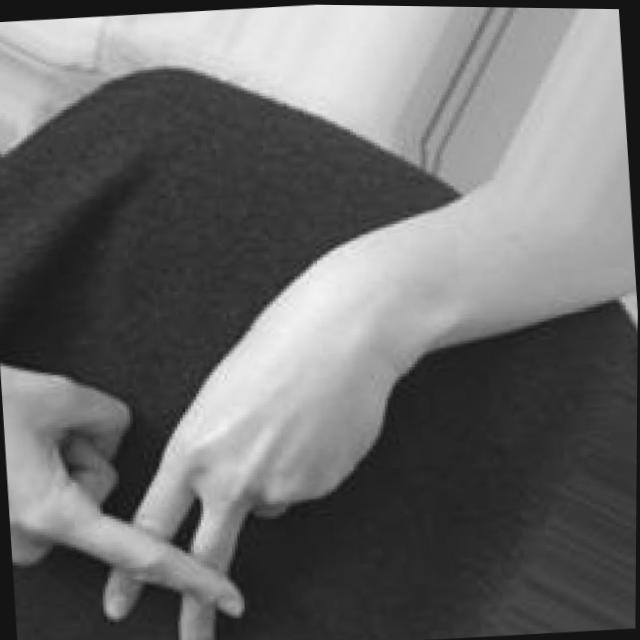A: (0, 286, 314, 640)
